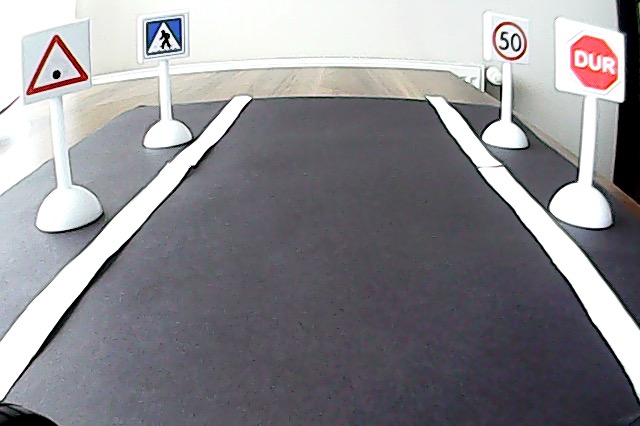green light: (20, 35, 90, 92)
pedestrian crossing: (141, 17, 189, 57)
speed limit 50: (489, 16, 528, 60)
stop sign: (558, 23, 623, 97)
